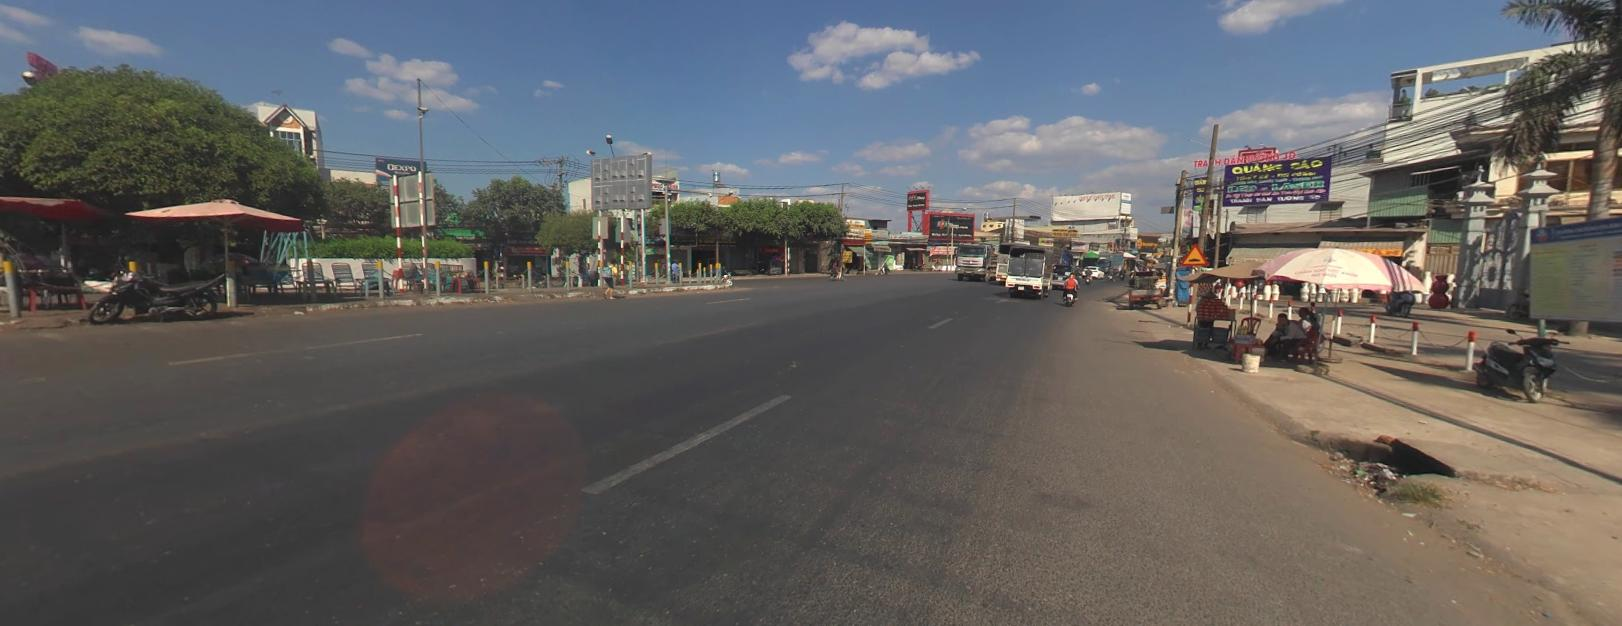Nguy hiem: (1180, 242, 1209, 264), (1181, 242, 1208, 264)
